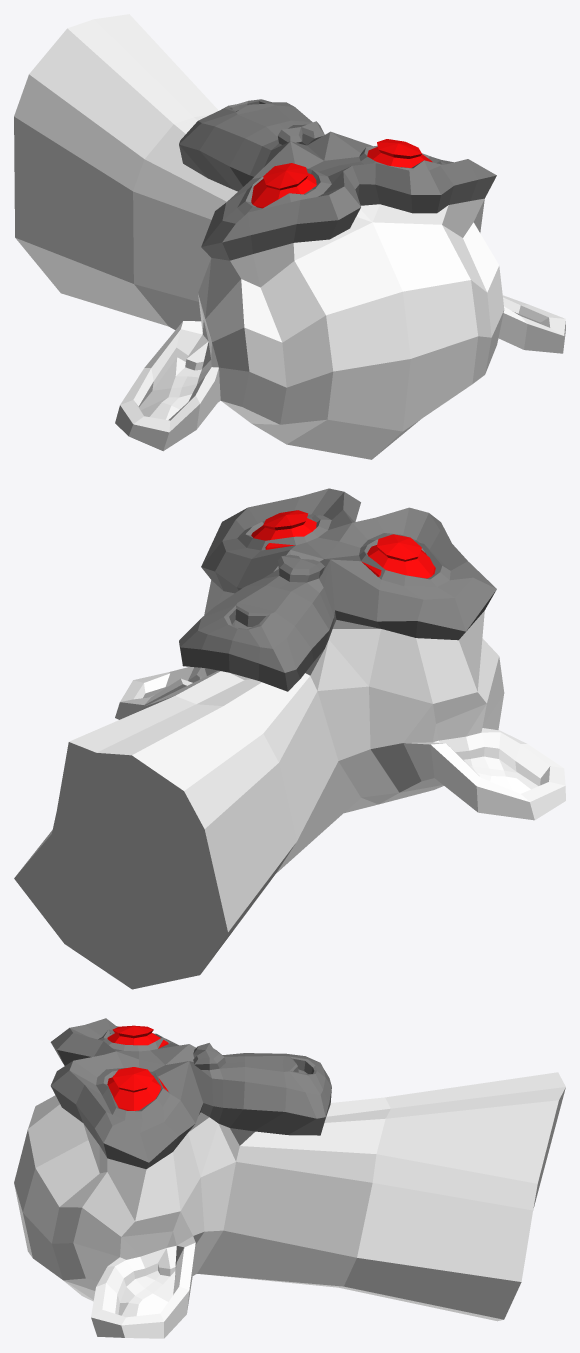
The model's file is monkey2.fbx.
The picture shows the model from 3 angles, top to bottom: view 1: azimuth 30°, elevation 25°; view 2: azimuth 150°, elevation 25°; view 3: azimuth 270°, elevation 25°; orthographic projection. The views are drawn at different scales.
Visible parts, largest first — view 1: Suzanne; view 2: Suzanne; view 3: Suzanne.
Boxes of the visible parts, x1,y1,x2,y2 form: Suzanne: (14,14,565,459); Suzanne: (14,488,565,989); Suzanne: (14,1018,565,1338).
Bounding box in the file's own units: 2.73 × 1.87 × 3.42.
1 material, 1 textured.
